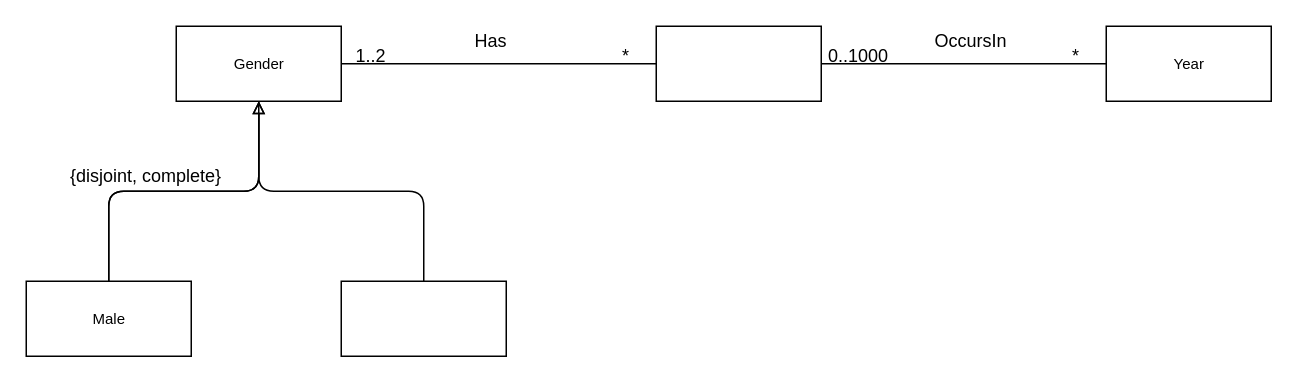
Some shapes in this 1298 by 383 pixel diagram are drawn without their labels. The centre of each missing label's shape, as x and y in pixels:
"Female" belongs at [423,318].
"Name" belongs at [738,63].
